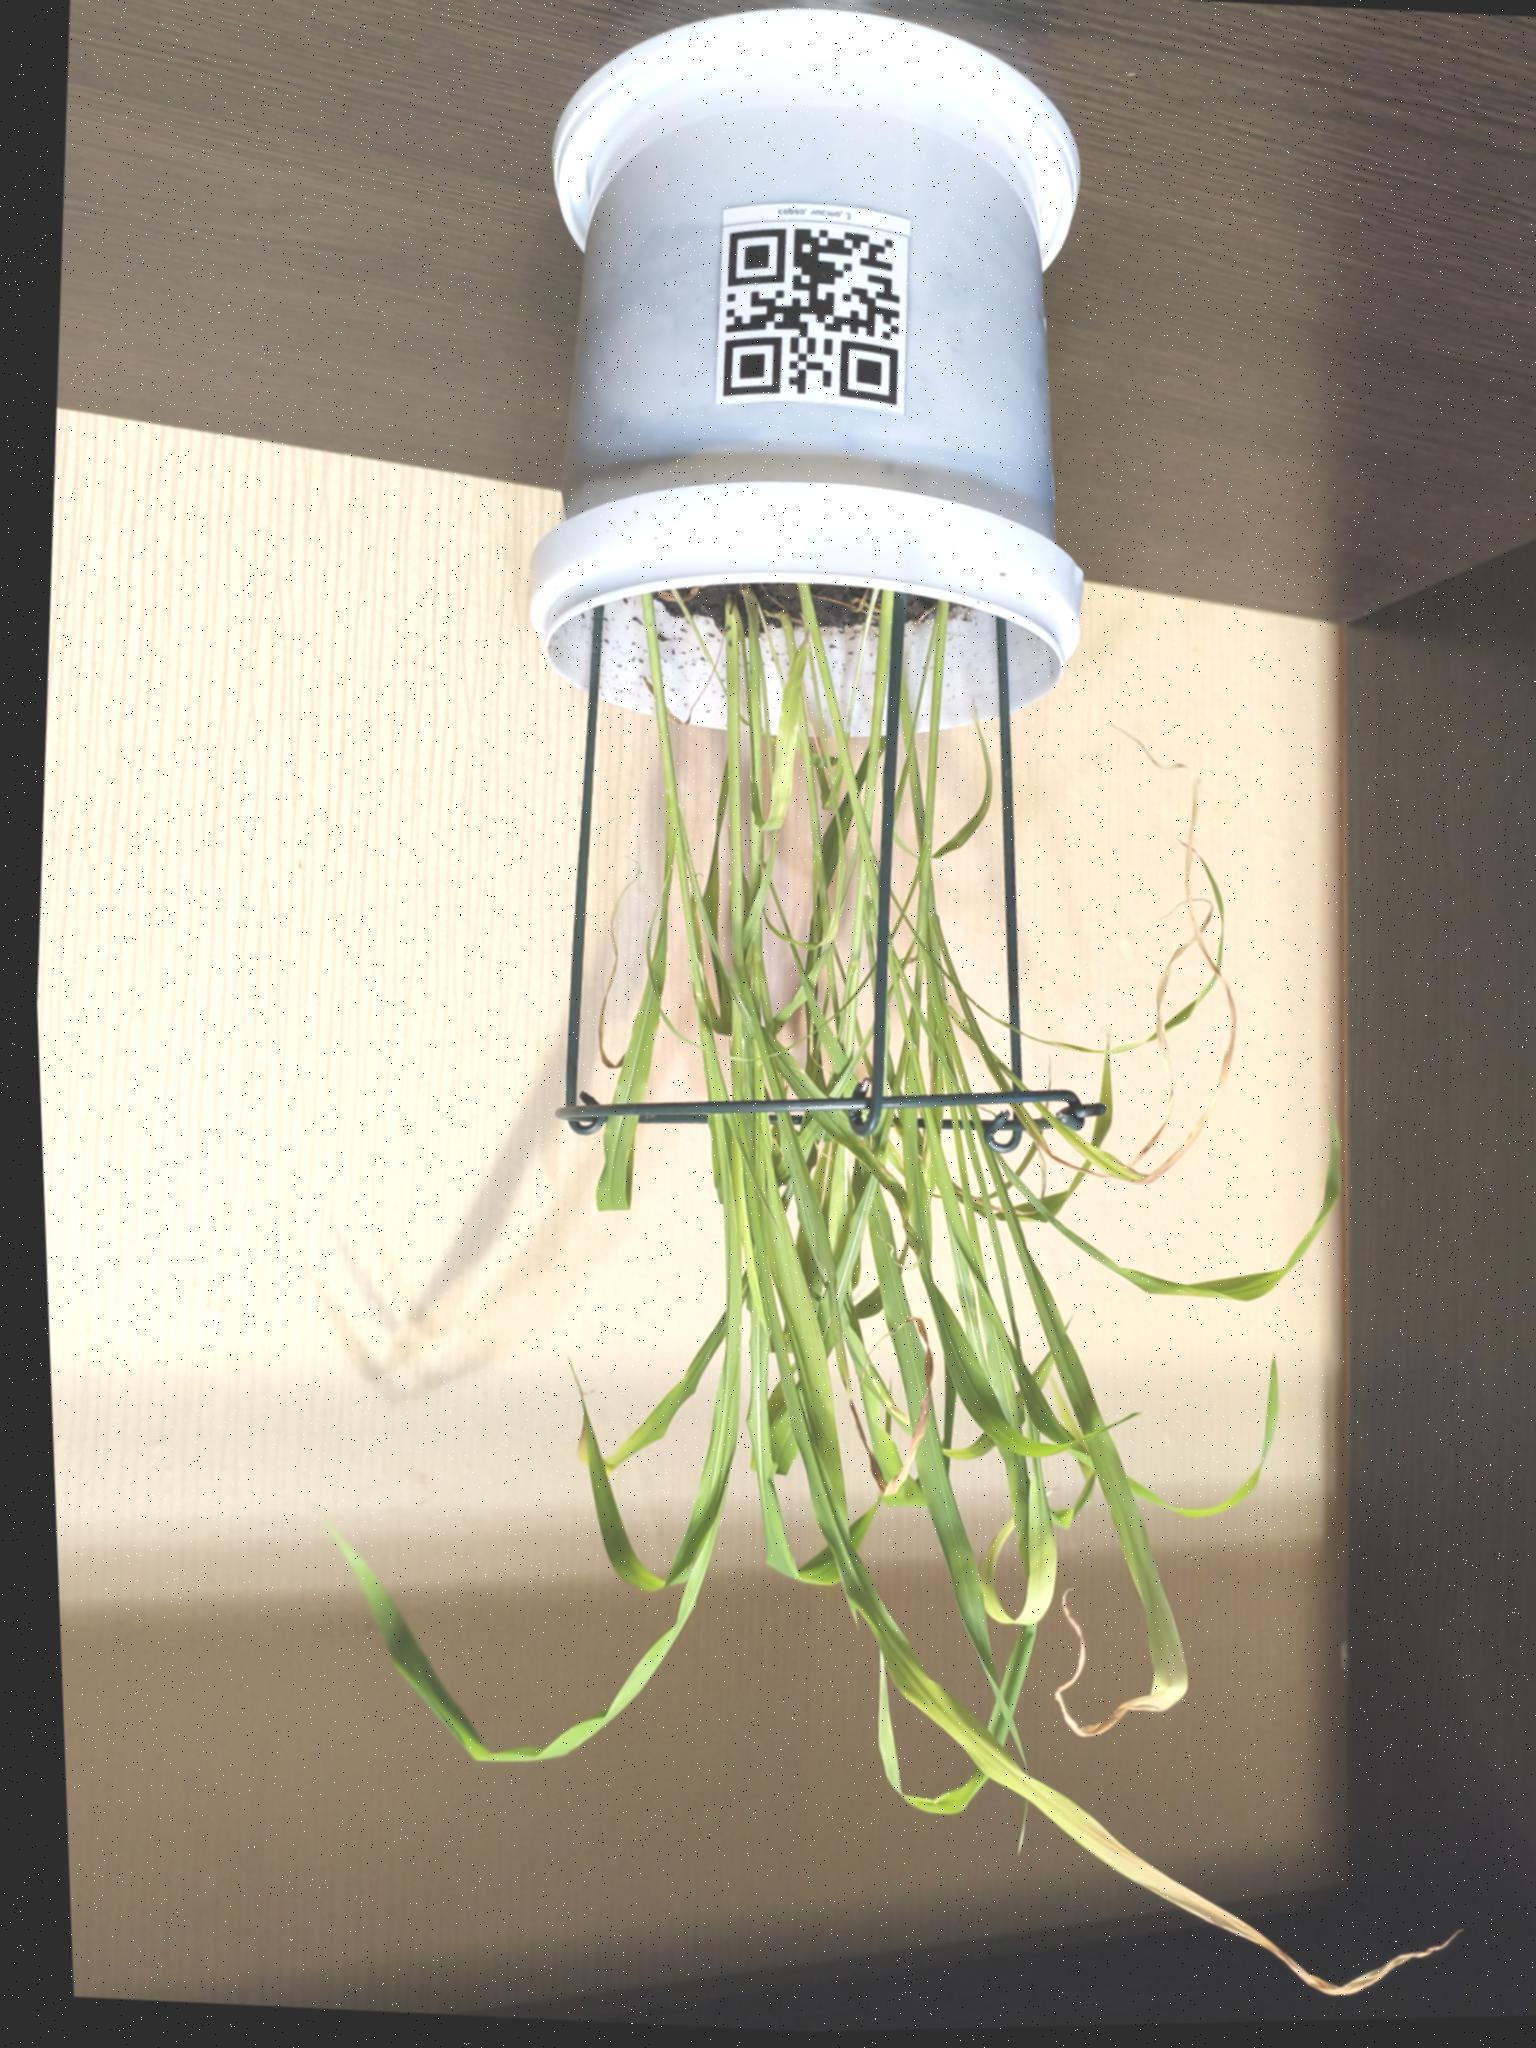container: (529, 11, 1084, 739)
stem: (794, 585, 878, 861), (845, 592, 897, 959), (778, 610, 829, 885), (913, 601, 952, 930), (899, 651, 937, 914), (639, 595, 679, 803), (736, 589, 766, 860), (721, 601, 744, 872)
